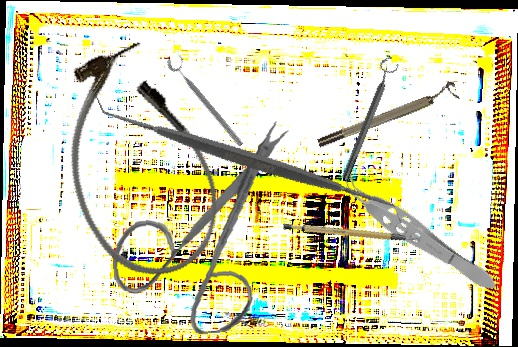Cannula: (38, 32, 237, 294)
Fixation Ring: (314, 80, 460, 150), (164, 50, 251, 150), (335, 57, 401, 183)
Iris Scissors: (101, 119, 307, 342)
Scalpel Handle: (281, 204, 423, 265)
Spatula Surgical: (94, 5, 402, 311)
Tissue Forceps: (328, 164, 505, 300)
